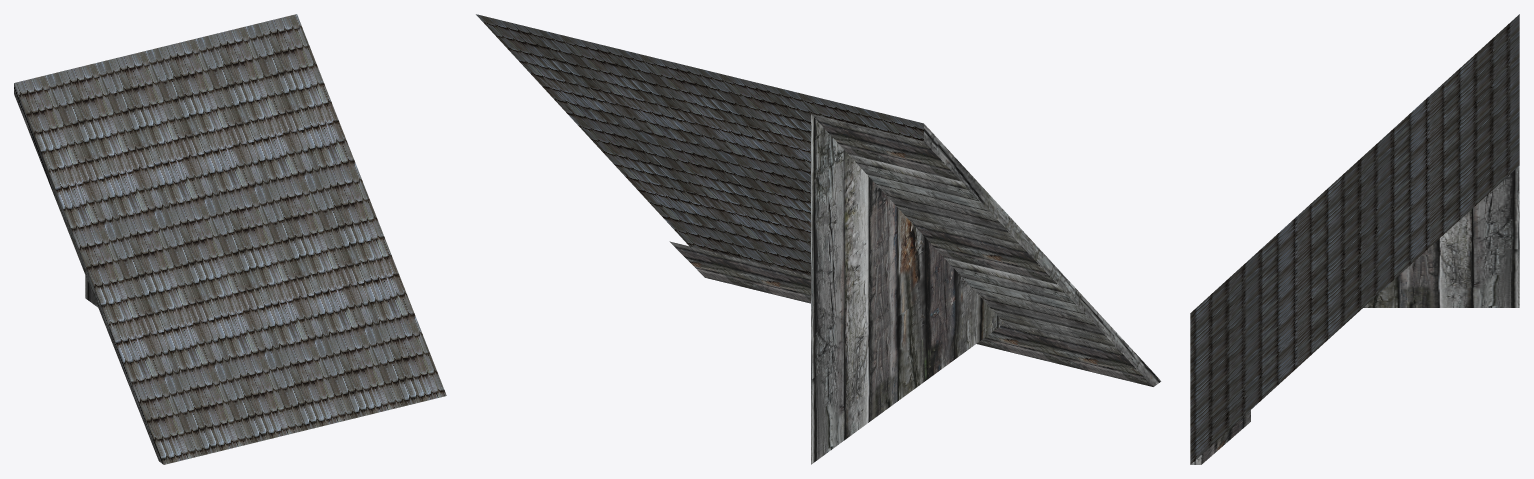
File: House 2 Down End Right Roof.FBX
3 renders of one model, left to right at view 1: azimuth 30°, elevation 25°; view 2: azimuth 150°, elevation 25°; view 3: azimuth 270°, elevation 25°, orthographic. The views are drawn at different scales.
Parts seen in each view (by area): view 1: Object14; view 2: Object14; view 3: Object14.
Part boxes in pixels (x1,y1,x2,y2): Object14: (14,14,446,464); Object14: (476,14,1161,464); Object14: (1190,14,1519,464).
Bounding box in the file's own units: 316 × 291 × 290.
2 materials, 2 textured.
